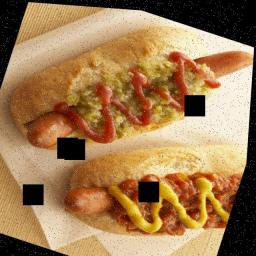hotdog: (0, 0, 256, 206), (56, 90, 252, 256)
